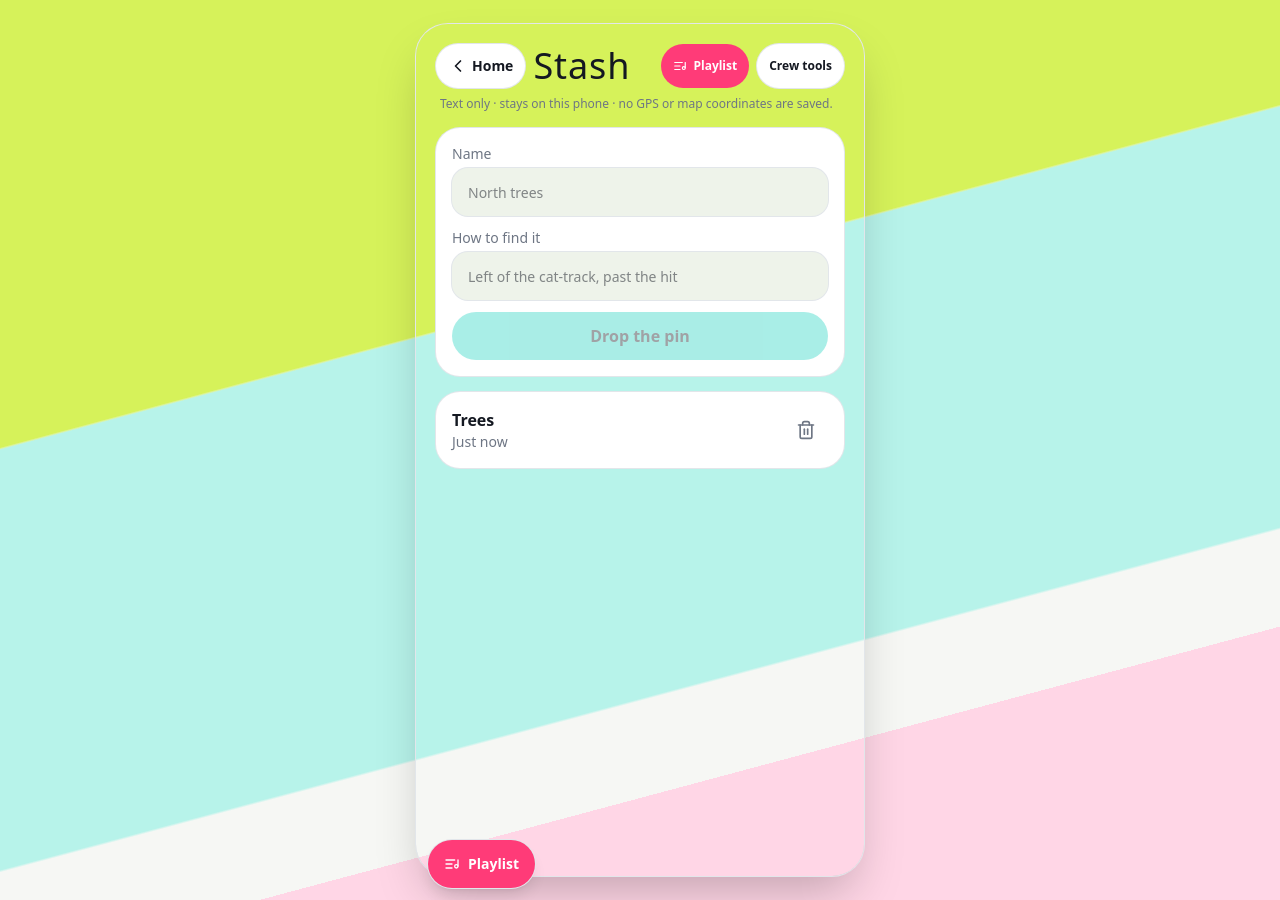
Test case: Stash screen › remove asks first; Keep pin keeps it
Click the button named "Remove Trees". click: [806, 430]
box: [784,408,828,452]
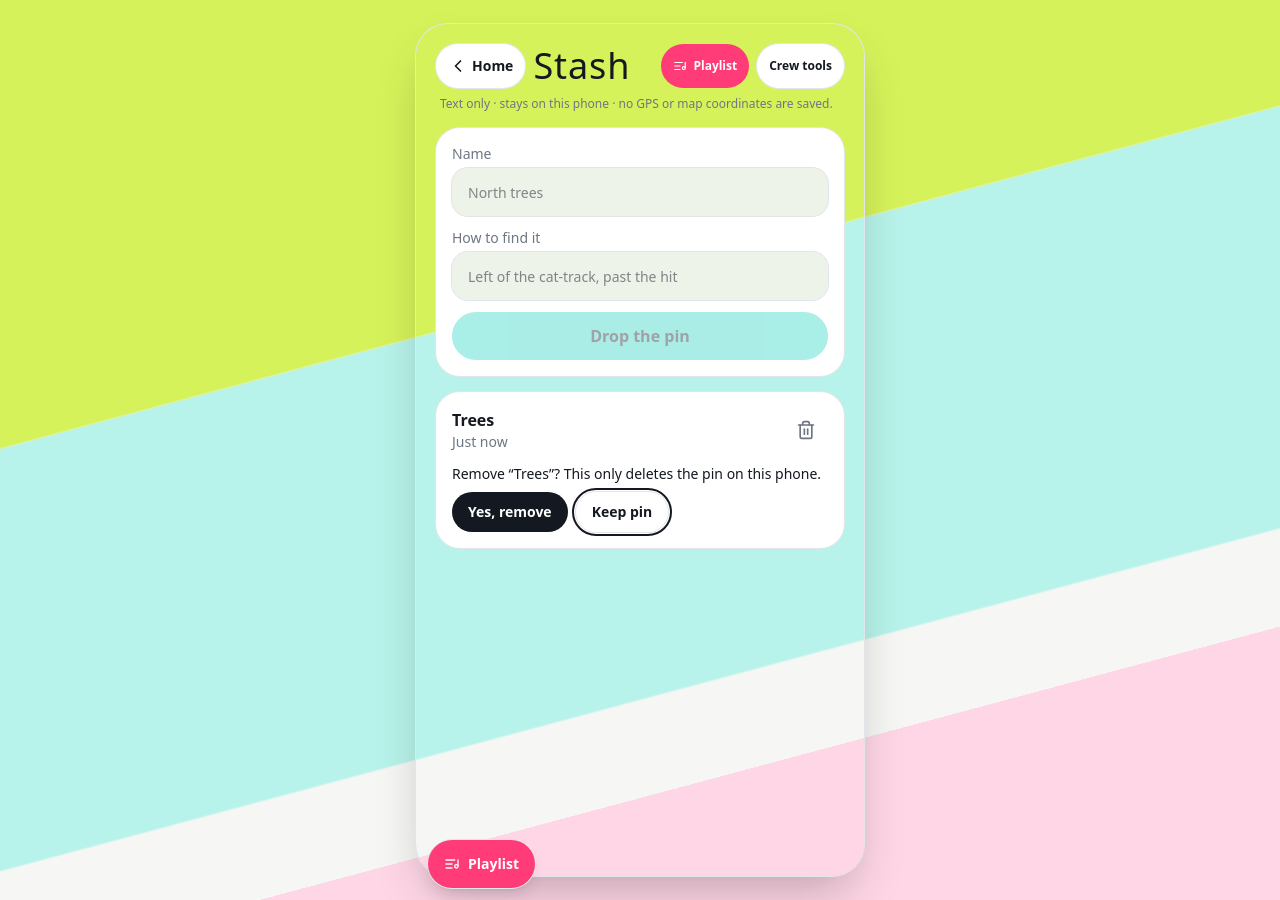
Check: the element with test id "stash-remove-confirm" is shown, box [452,464,828,532]
Click the button "Keep pin". click: [622, 512]
box: [576,492,668,532]
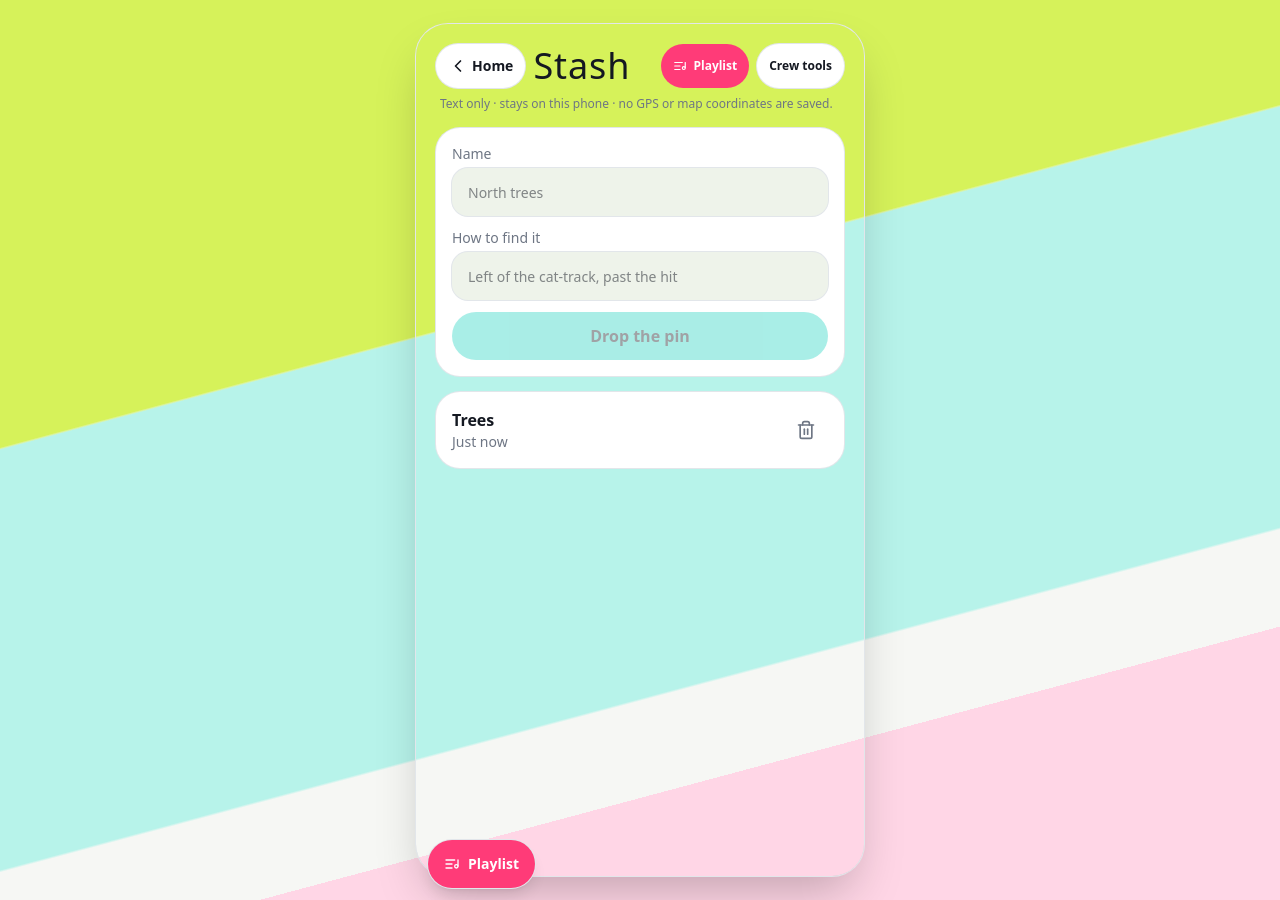
Check: the element with test id "stash-remove-confirm" is gone
